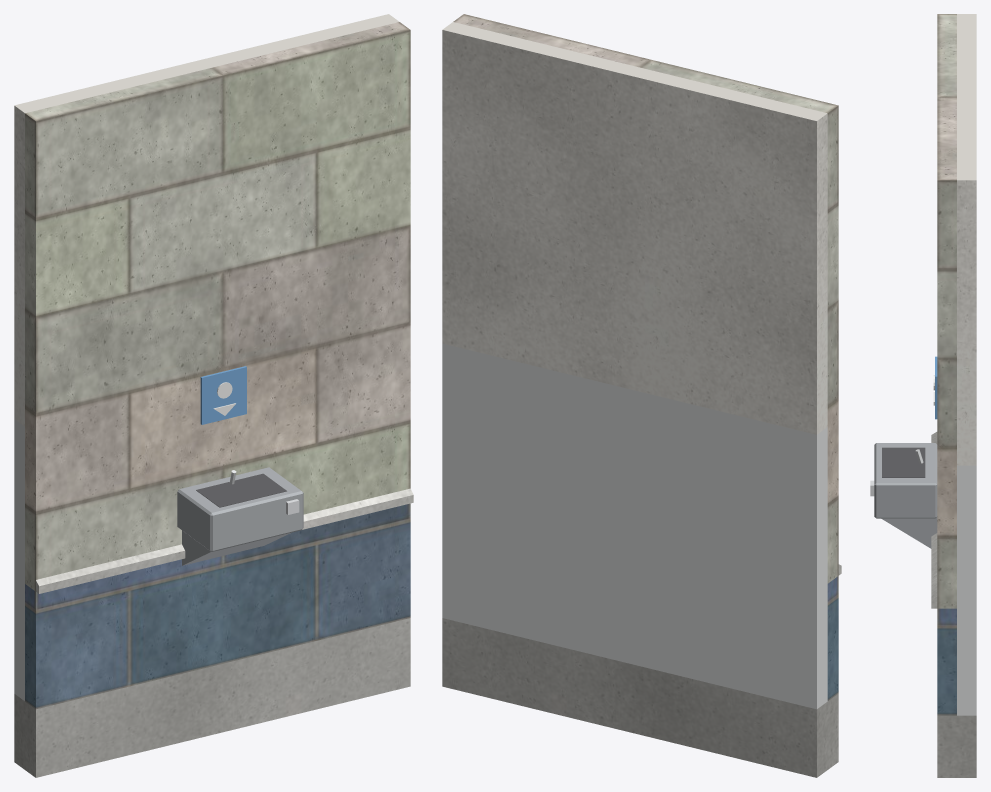
File: r_fount.glb
The picture shows the model from 3 angles, left to right: view 1: azimuth 30°, elevation 25°; view 2: azimuth 150°, elevation 25°; view 3: azimuth 270°, elevation 25°; orthographic projection. The views are drawn at different scales.
Visible parts, largest first — view 1: r_fount_cmu, r_fount_cmu2, r_fount_concrete, r_fount_plaster, r_fount_steel, r_fount_coping, r_fount_tile, r_fount_paint_b, r_fount_dark; view 2: r_fount_plaster, r_fount_tile, r_fount_concrete, r_fount_cmu, r_fount_cmu2; view 3: r_fount_cmu, r_fount_plaster, r_fount_tile, r_fount_steel, r_fount_concrete, r_fount_cmu2, r_fount_dark, r_fount_coping.
Part boxes in pixels (<box>): r_fount_cmu: <box>25,22,410,591</box>; r_fount_cmu2: <box>25,503,410,709</box>; r_fount_concrete: <box>14,618,410,777</box>; r_fount_plaster: <box>14,14,399,426</box>; r_fount_steel: <box>177,467,303,565</box>; r_fount_coping: <box>36,488,413,593</box>; r_fount_tile: <box>14,419,24,700</box>; r_fount_paint_b: <box>200,366,246,424</box>; r_fount_dark: <box>196,473,286,507</box>; r_fount_plaster: <box>442,22,827,434</box>; r_fount_tile: <box>442,343,827,709</box>; r_fount_concrete: <box>442,618,838,777</box>; r_fount_cmu: <box>453,14,838,583</box>; r_fount_cmu2: <box>827,576,838,700</box>; r_fount_cmu: <box>937,14,956,608</box>; r_fount_plaster: <box>957,14,976,465</box>; r_fount_tile: <box>957,465,976,715</box>; r_fount_steel: <box>874,443,937,548</box>; r_fount_concrete: <box>937,715,976,777</box>; r_fount_cmu2: <box>937,608,956,715</box>; r_fount_dark: <box>882,447,925,477</box>; r_fount_coping: <box>931,432,937,608</box>.
Size of the model in its own units: 2 by 3.35 by 0.54.
Materials: 11 (5 with a texture image).
